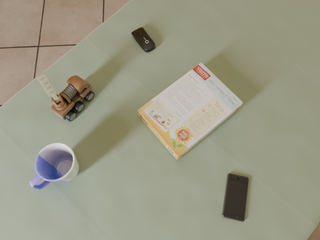box: (138, 63, 243, 160)
cup: (30, 143, 79, 189)
mouse: (132, 27, 155, 52)
phone: (222, 173, 249, 221)
toy_car: (36, 73, 94, 121)
